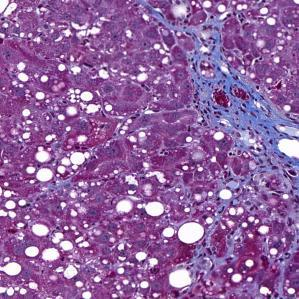fibrosis: (187, 55, 278, 145)
